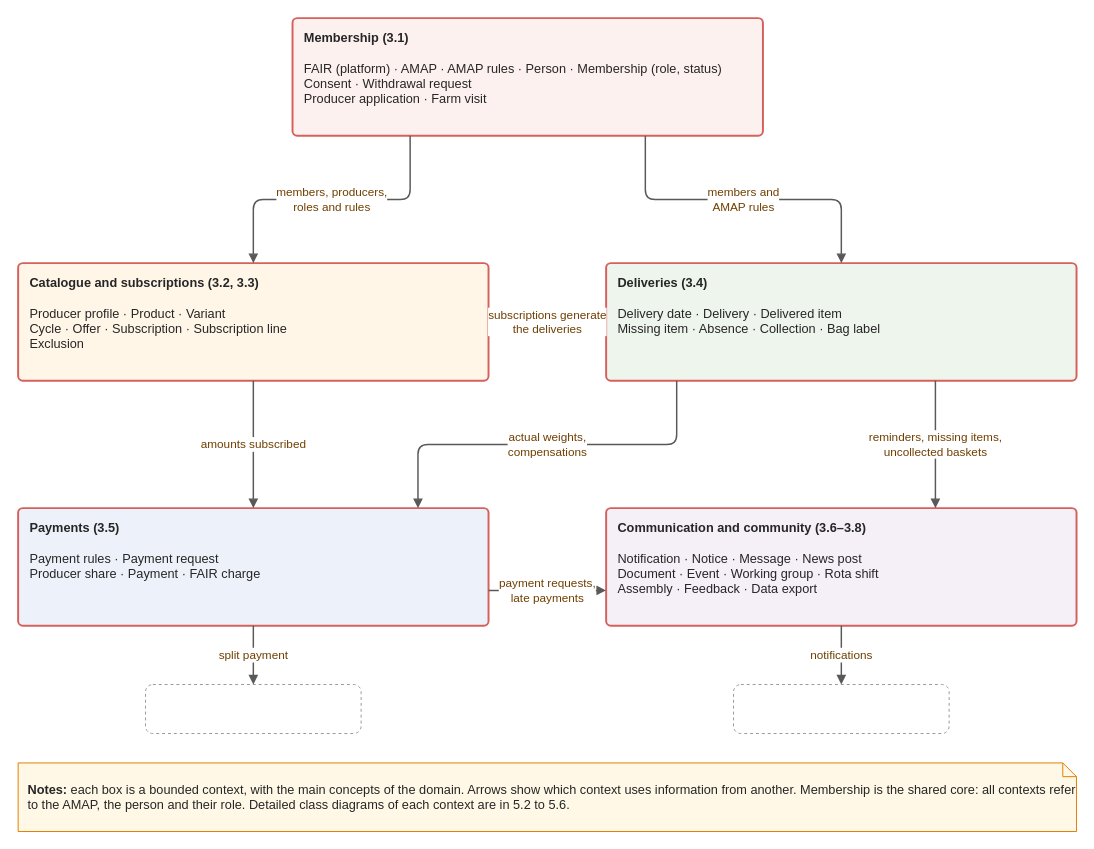
The diagram is 1094 pixels wide and 849 high, and some of its shapes have lost their labels. The centre of each missing label's shape, as x and y in pixels:
Email, push and WhatsApp services «external»: pixel 841 709
Licensed payment provider «external»: pixel 253 709
